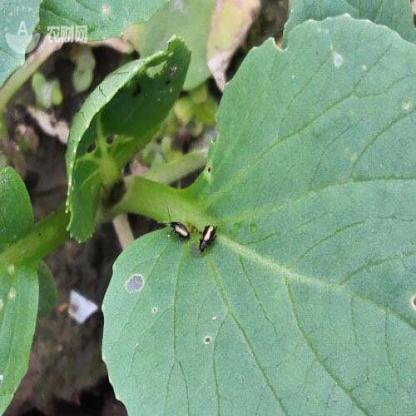beetle: (165, 209, 194, 245), (193, 221, 219, 254)
